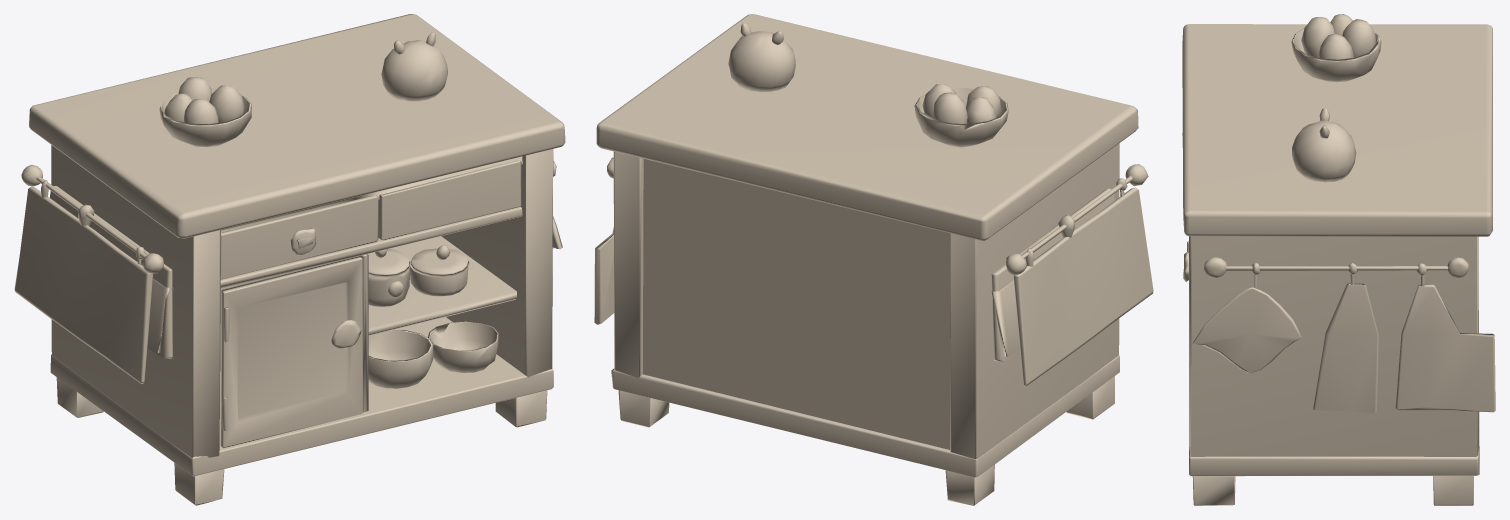
File: kitchen-10-geometry.glb
3 renders of one model, left to right at view 1: azimuth 30°, elevation 25°; view 2: azimuth 150°, elevation 25°; view 3: azimuth 270°, elevation 25°, orthographic.
Bounding box in the file's own units: 1 × 0.8105 × 0.6465.
